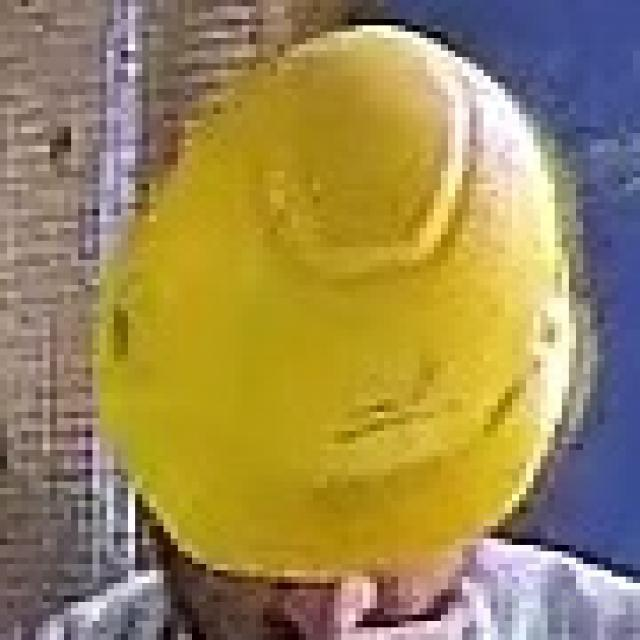yellow helmet: (84, 29, 584, 579)
